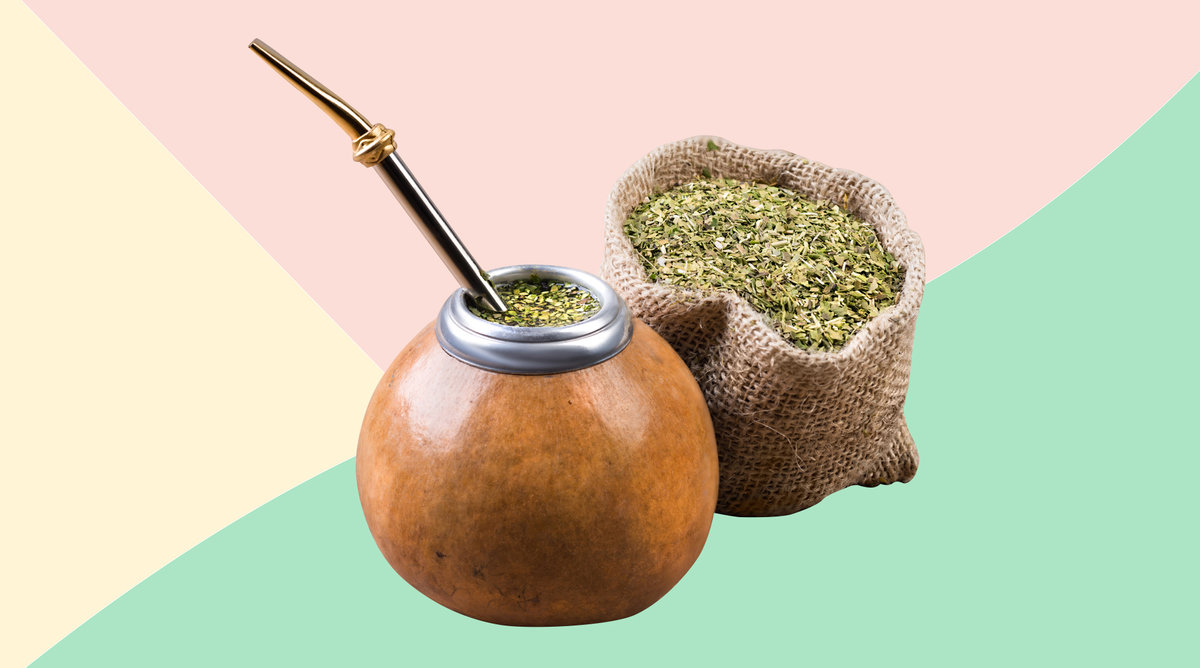guampa: (209, 33, 723, 625)
